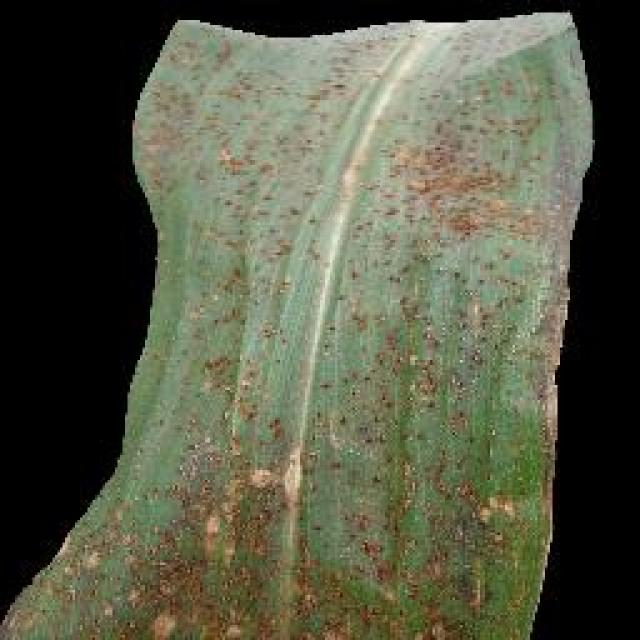Corn___Common_rust: (4, 17, 607, 640)
